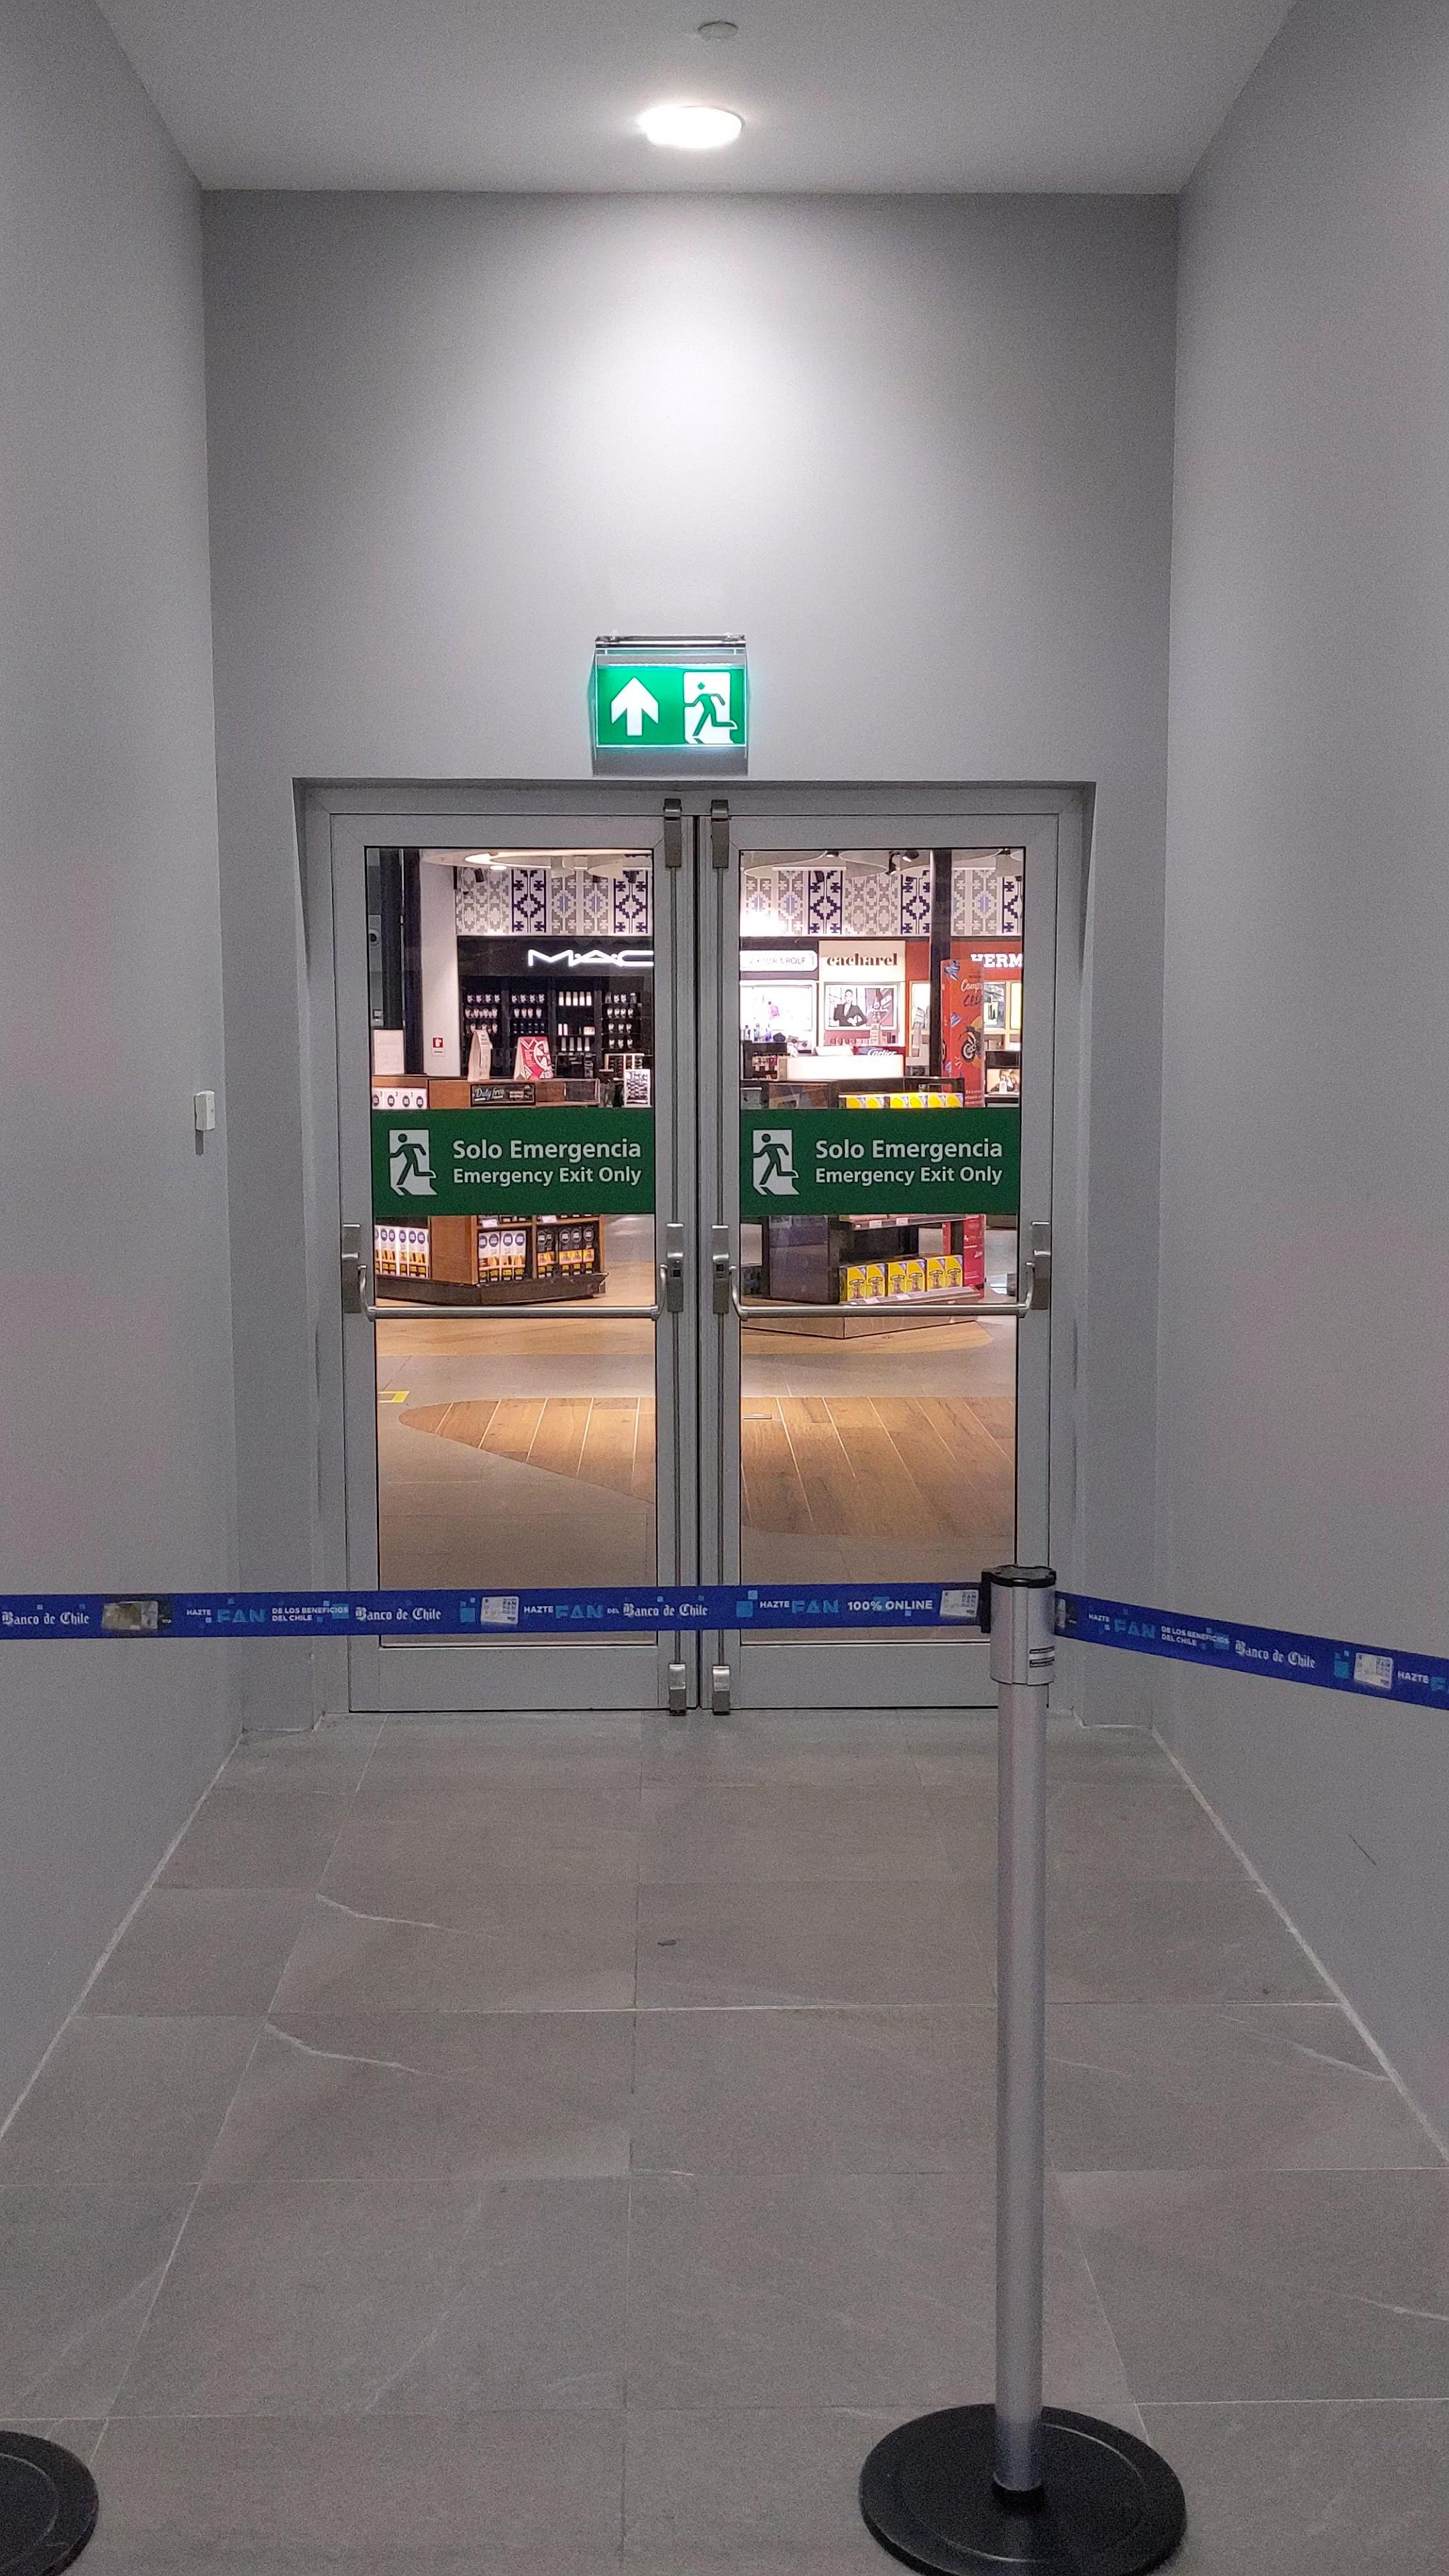emergency exit: (679, 669, 740, 747), (384, 1127, 439, 1200), (750, 1127, 801, 1200)
emergency up arrow: (609, 674, 662, 740)
